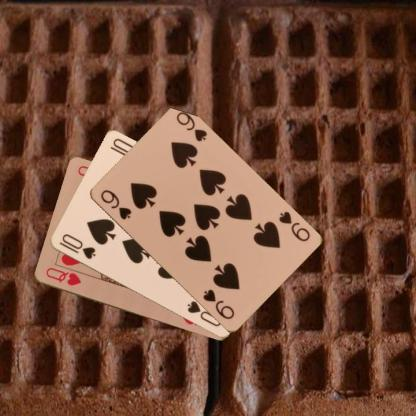10s: (56, 232, 97, 260)
9s: (97, 186, 133, 221), (276, 208, 312, 243)
Qh: (42, 264, 82, 288)
